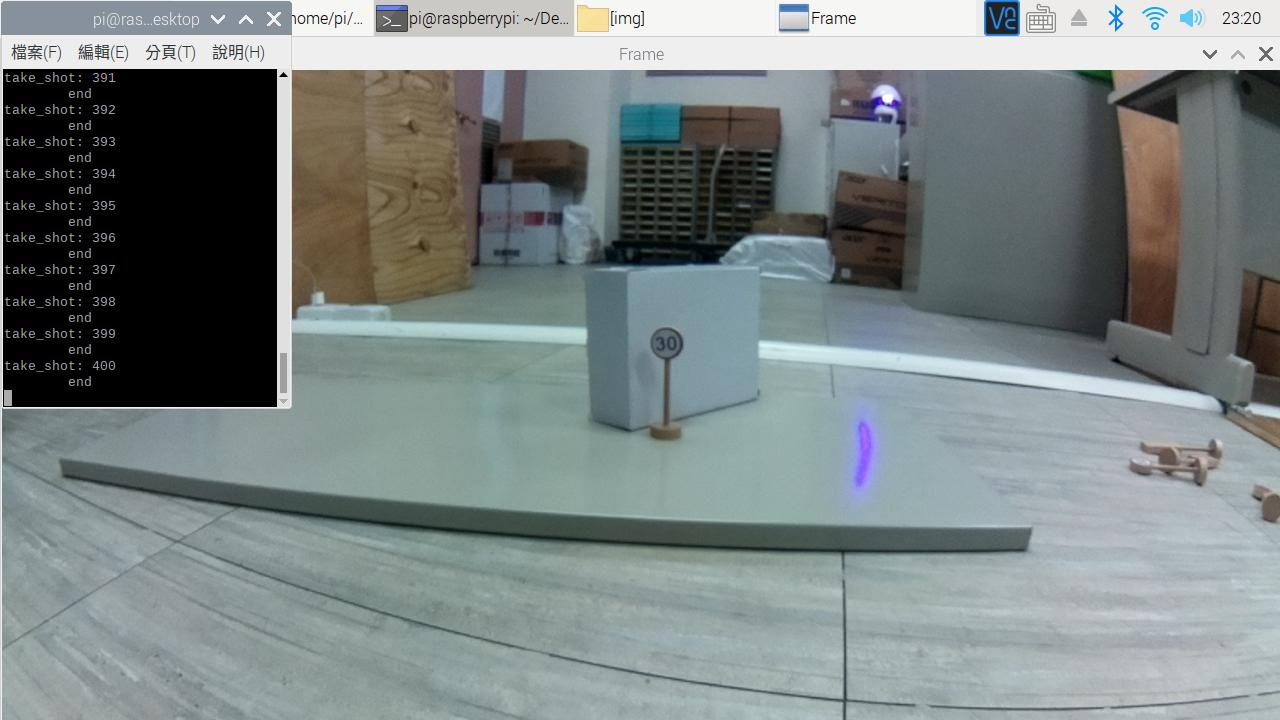Speed30: (646, 312, 699, 375)
